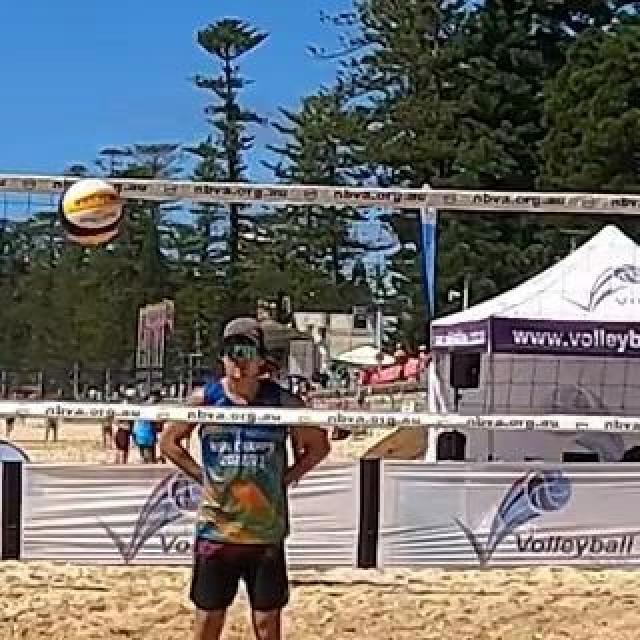volleyball: (64, 181, 124, 241)
